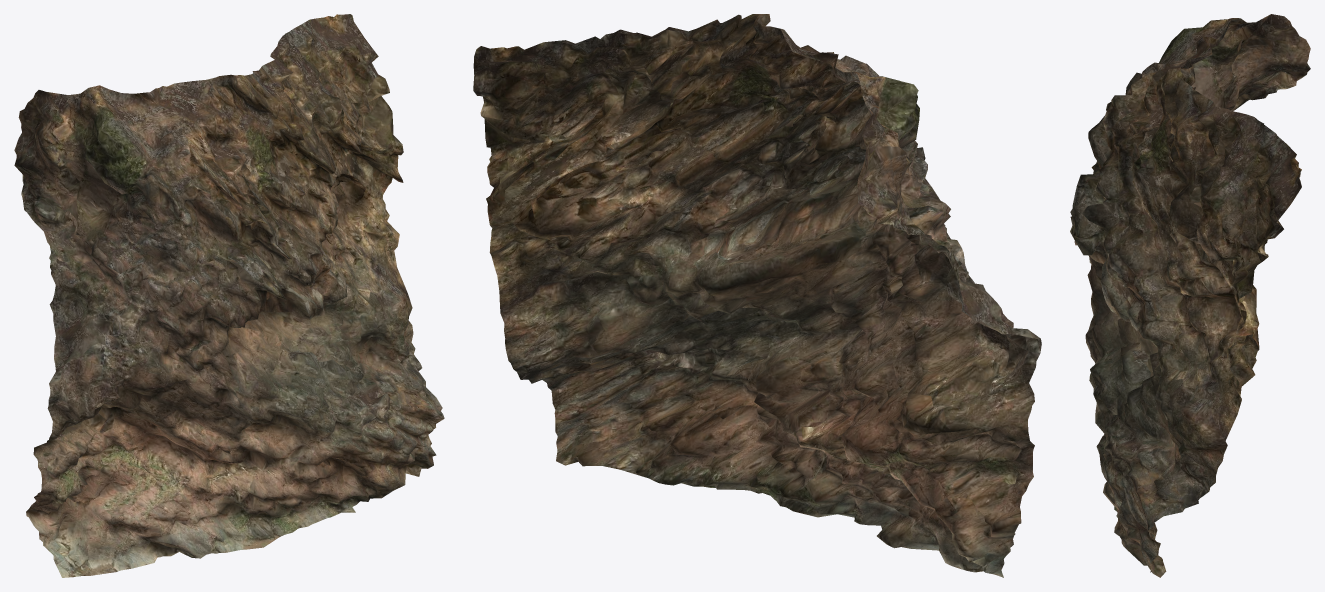
3 renders of one model, left to right at view 1: azimuth 30°, elevation 25°; view 2: azimuth 150°, elevation 25°; view 3: azimuth 270°, elevation 25°, orthographic. The views are drawn at different scales.
Visible parts, largest first — view 1: mountainside; view 2: mountainside; view 3: mountainside.
Part boxes in pixels (x1,y1,x2,y2): mountainside: (14,14,444,577); mountainside: (473,14,1041,577); mountainside: (1070,14,1310,577).
Bounding box in the file's own units: 10.21 × 10.51 × 5.24.
1 material, 1 textured.
